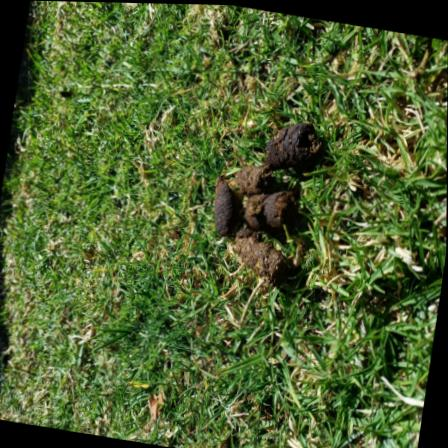dog-poop: (179, 99, 340, 317)
